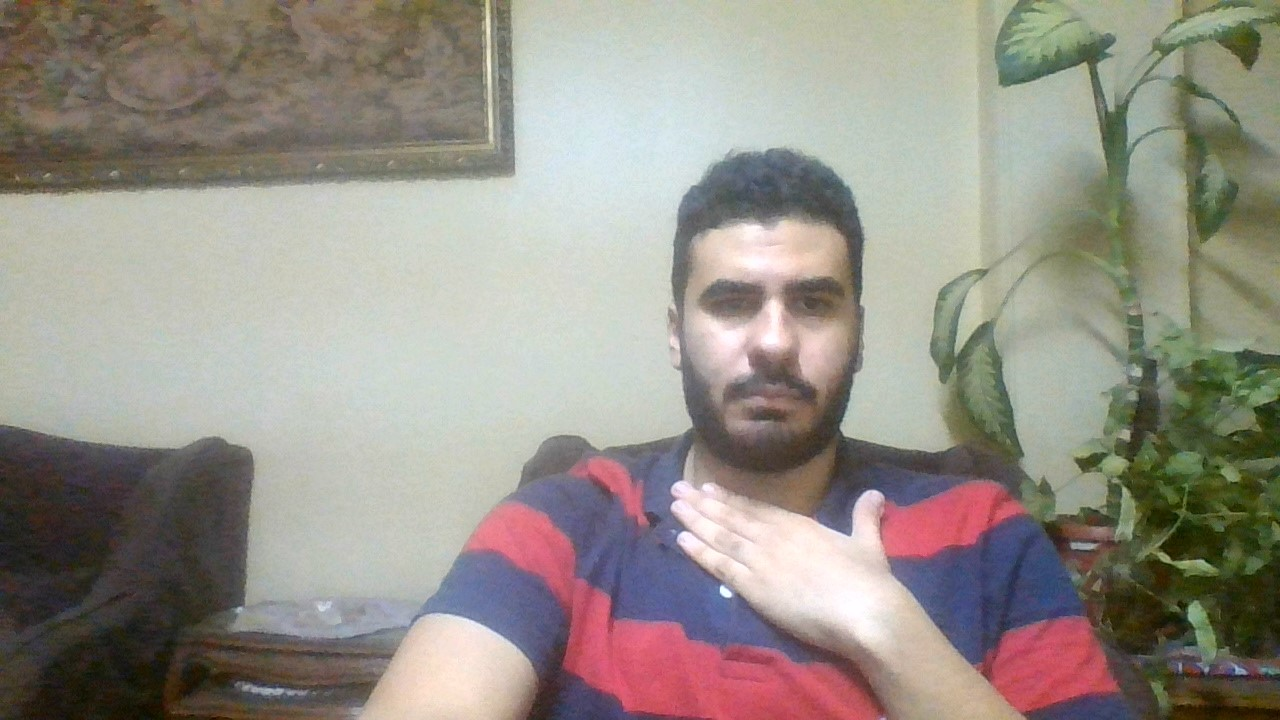please: (650, 469, 941, 647)
